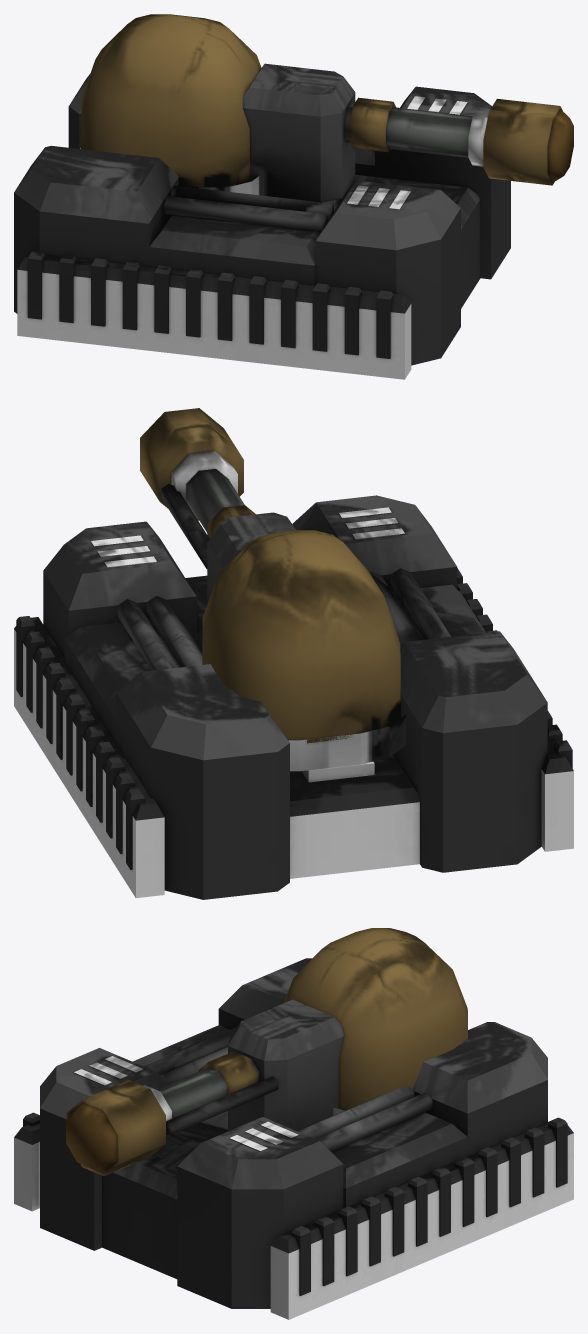
File: newshp-13-f8.glb
3 renders of one model, top to bottom at view 1: azimuth 30°, elevation 25°; view 2: azimuth 150°, elevation 25°; view 3: azimuth 270°, elevation 25°, orthographic. The views are drawn at different scales.
Visible parts, largest first — view 1: newshp-13-f8; view 2: newshp-13-f8; view 3: newshp-13-f8.
Part boxes in pixels (box(x1,y1,x2,y2)): newshp-13-f8: box(14, 14, 573, 379); newshp-13-f8: box(14, 408, 573, 899); newshp-13-f8: box(14, 928, 573, 1319).
Bounding box in the file's own units: 1.27 × 0.6167 × 1.27.
14 materials, 14 textured.
